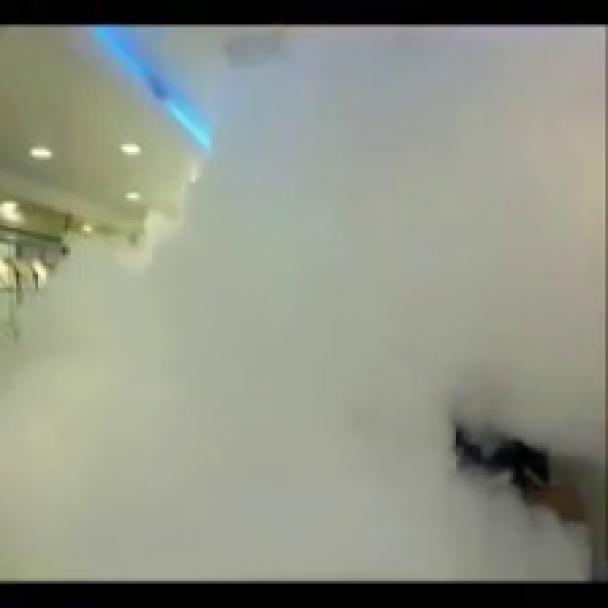smoke: (5, 19, 605, 584)
